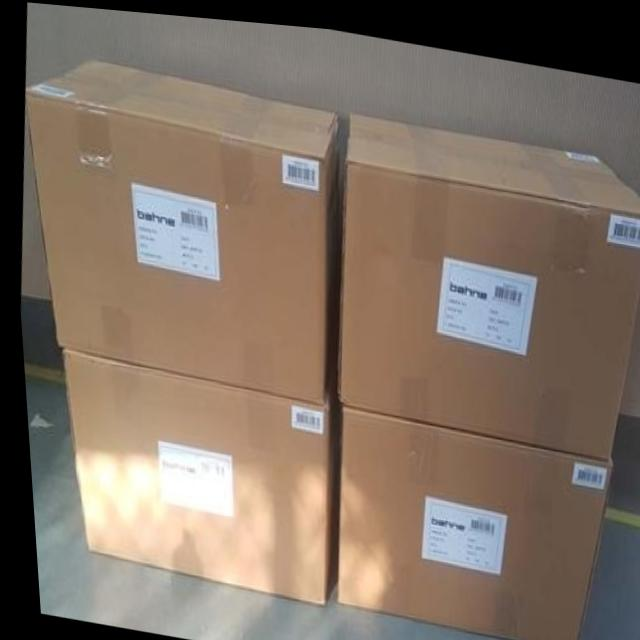box: (24, 57, 337, 399), (332, 107, 640, 449), (56, 346, 329, 598), (329, 395, 605, 640)
